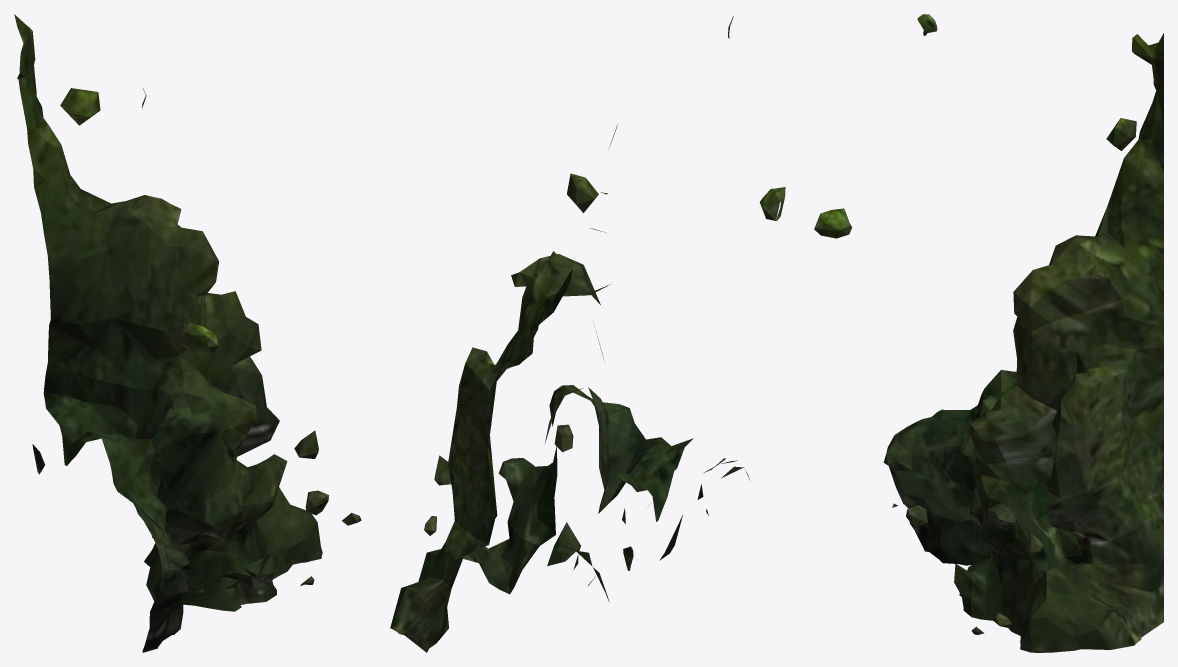
The picture shows the model from 3 angles, left to right: view 1: azimuth 30°, elevation 25°; view 2: azimuth 150°, elevation 25°; view 3: azimuth 270°, elevation 25°; orthographic projection. The views are drawn at different scales.
Size of the model in its own units: 0.8063 by 1.67 by 1.
2 materials, 2 textured.
